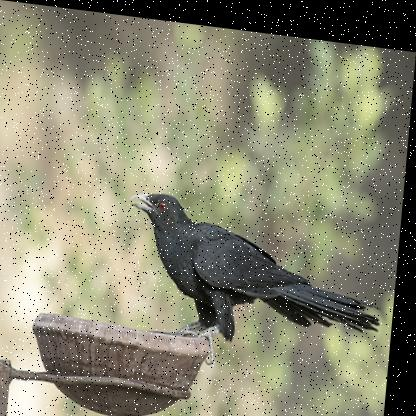Burung: (123, 185, 393, 375)
